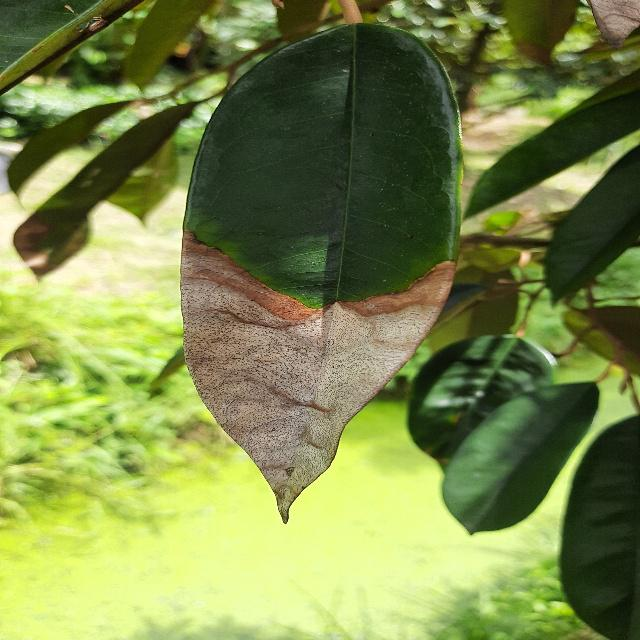Leaf Blight: (173, 13, 473, 531)
